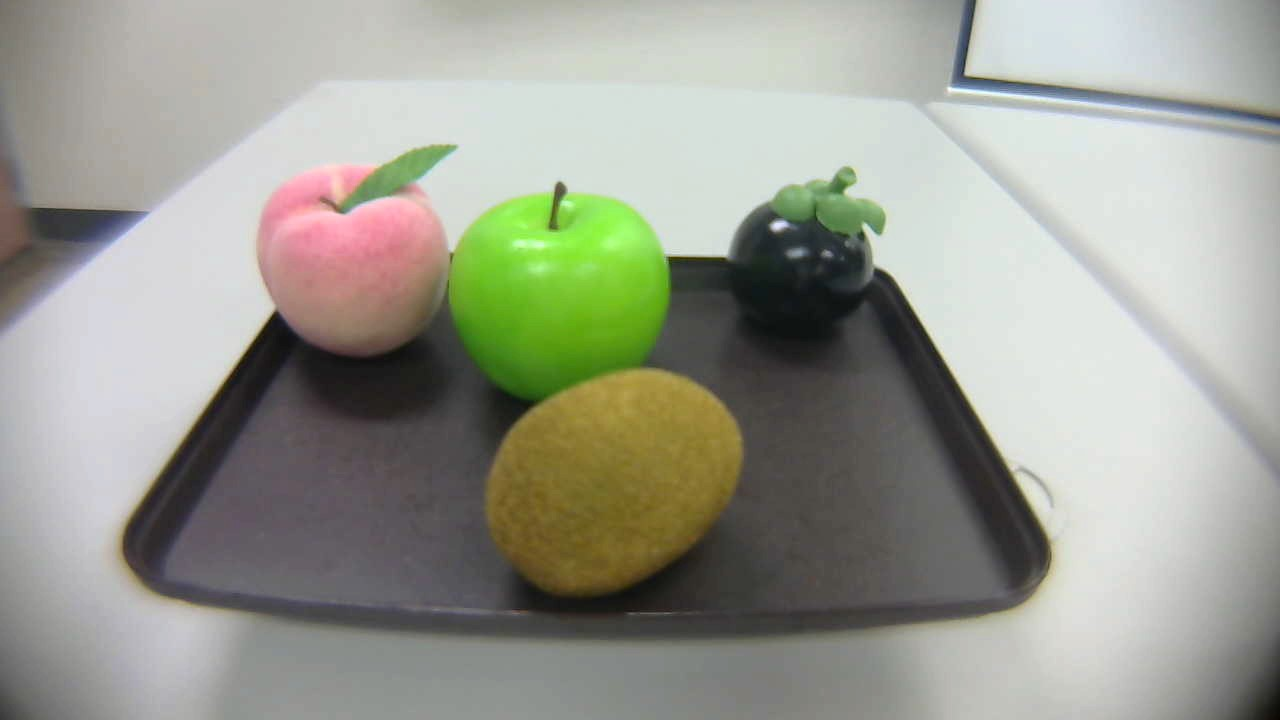green apple: (437, 173, 682, 418)
kiwi fruit: (479, 363, 755, 604)
mangosteen: (727, 163, 881, 352)
peach: (238, 133, 460, 371)
